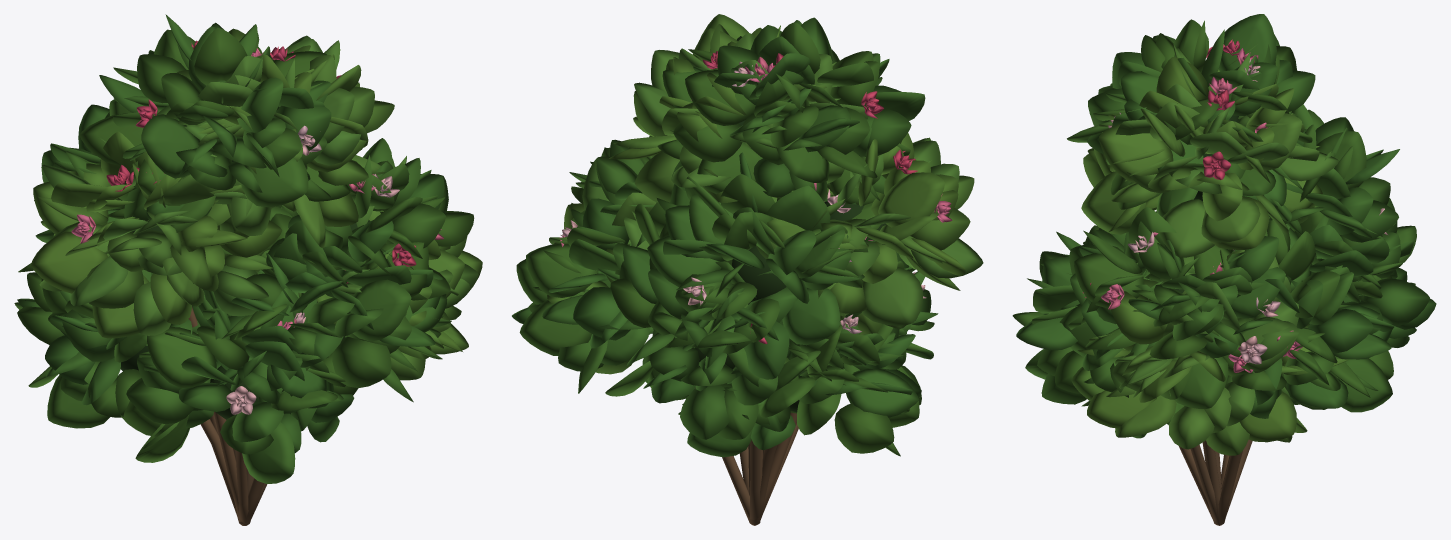
Rendered from hedge_shrub_rose.glb.
3 views of the same model, side by side, from view 1: azimuth 30°, elevation 25°; view 2: azimuth 150°, elevation 25°; view 3: azimuth 270°, elevation 25° (orthographic). The views are drawn at different scales.
Parts seen in each view (by area): view 1: Sammel Pflanze, Sammel Holz, Sammel Blatt; view 2: Sammel Pflanze, Sammel Holz, Sammel Blatt; view 3: Sammel Pflanze, Sammel Holz.
Boxes of the visible parts, x1=… form: Sammel Pflanze: x1=14, y1=14, x2=482, y2=483; Sammel Holz: x1=188, y1=307, x2=267, y2=525; Sammel Blatt: x1=120, y1=160, x2=370, y2=419; Sammel Pflanze: x1=512, y1=14, x2=983, y2=457; Sammel Holz: x1=695, y1=387, x2=798, y2=525; Sammel Blatt: x1=651, y1=120, x2=886, y2=412; Sammel Pflanze: x1=1012, y1=14, x2=1436, y2=455; Sammel Holz: x1=1179, y1=439, x2=1252, y2=525.
Size of the model in its own units: 1.1 by 1.28 by 1.01.
